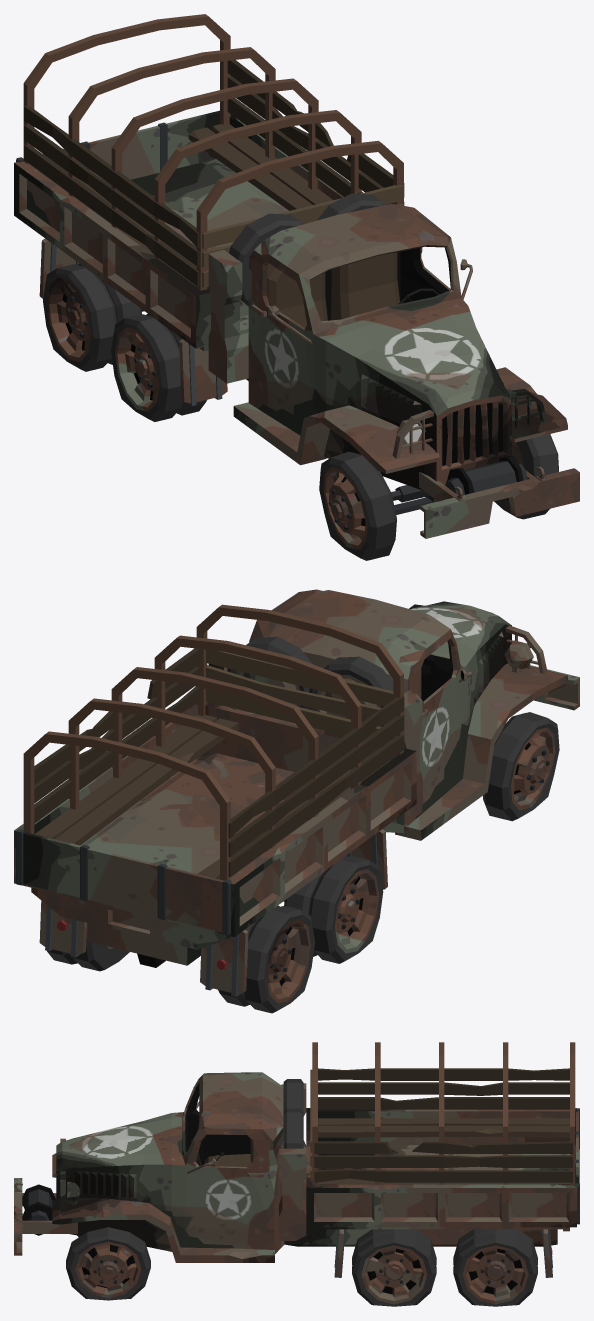
Rendered from SM_Veh_American_Truck_Destroyed_02.fbx.
The picture shows the model from 3 angles, top to bottom: view 1: azimuth 30°, elevation 25°; view 2: azimuth 150°, elevation 25°; view 3: azimuth 270°, elevation 25°; orthographic projection. The views are drawn at different scales.
Parts seen in each view (by area): view 1: SM_Veh_American_Truck_Destroyed_02; view 2: SM_Veh_American_Truck_Destroyed_02; view 3: SM_Veh_American_Truck_Destroyed_02.
Boxes of the visible parts, x1,y1,x2,y2 form: SM_Veh_American_Truck_Destroyed_02: [14, 14, 579, 560]; SM_Veh_American_Truck_Destroyed_02: [14, 589, 579, 1013]; SM_Veh_American_Truck_Destroyed_02: [14, 1042, 579, 1306].
Size of the model in its own units: 247 by 285 by 725.
